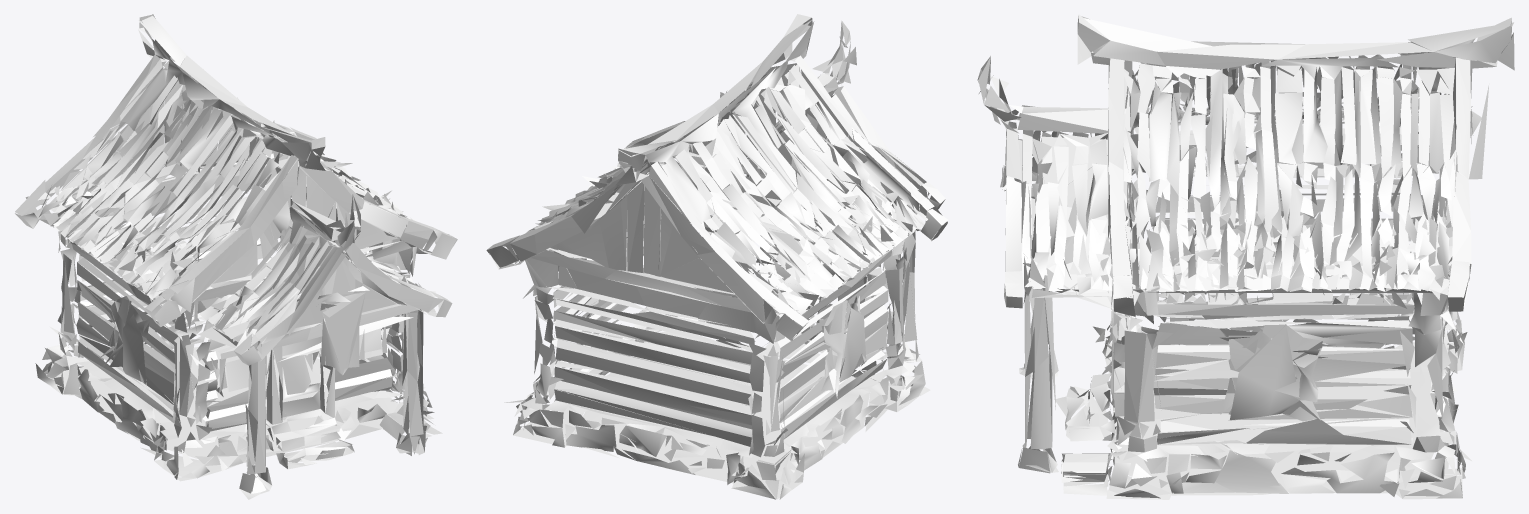
Rendered from house_timber_a_lod1.glb.
3 views of the same model, side by side, from view 1: azimuth 30°, elevation 25°; view 2: azimuth 150°, elevation 25°; view 3: azimuth 270°, elevation 25° (orthographic). The views are drawn at different scales.
Visible parts, largest first — view 1: house_timber_a; view 2: house_timber_a; view 3: house_timber_a.
Part boxes in pixels (box(x1,y1,x2,y2)): house_timber_a: box(15, 14, 457, 499); house_timber_a: box(486, 14, 948, 499); house_timber_a: box(977, 14, 1514, 499).
Size of the model in its own units: 7.49 by 7.6 by 9.06.
1 material, 1 textured.
